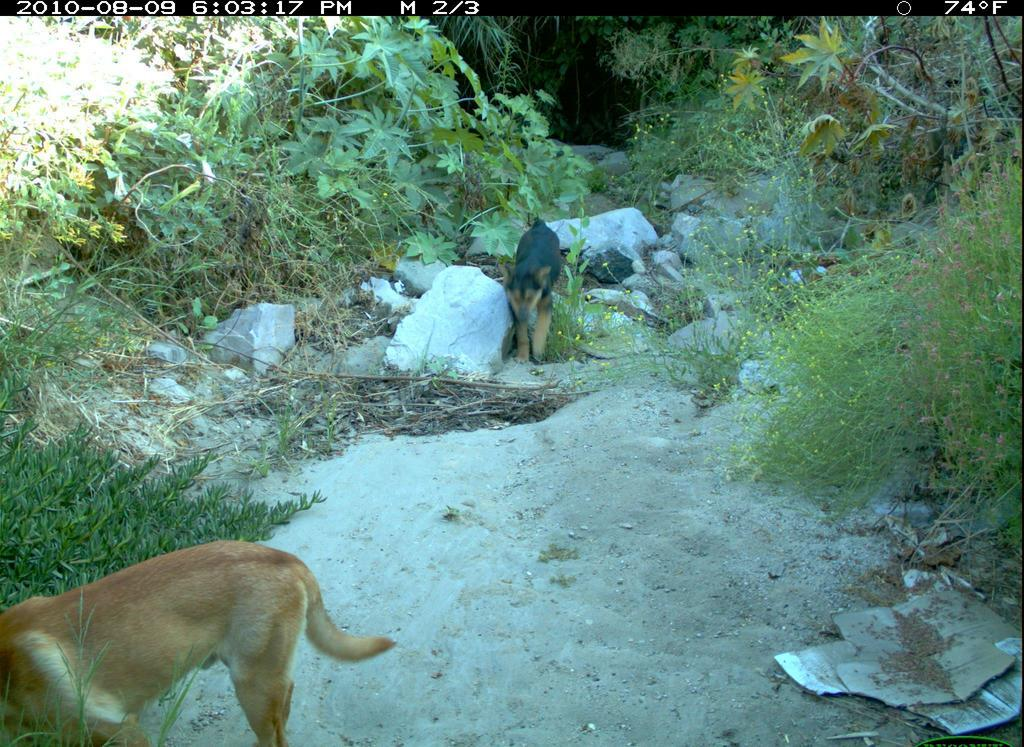dog: (3, 534, 401, 740), (497, 208, 577, 376)
